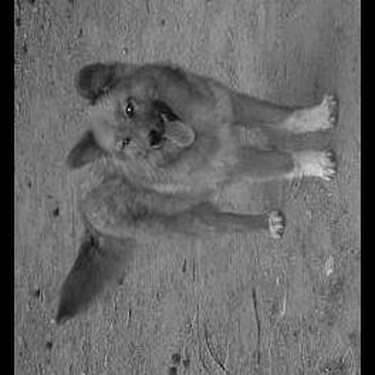dog: (50, 54, 345, 329)
